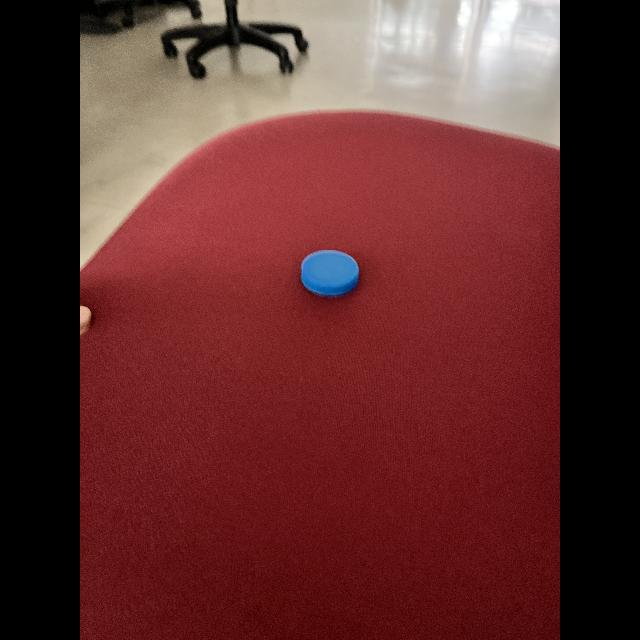plastic_bottle_cap: (292, 246, 371, 304)
